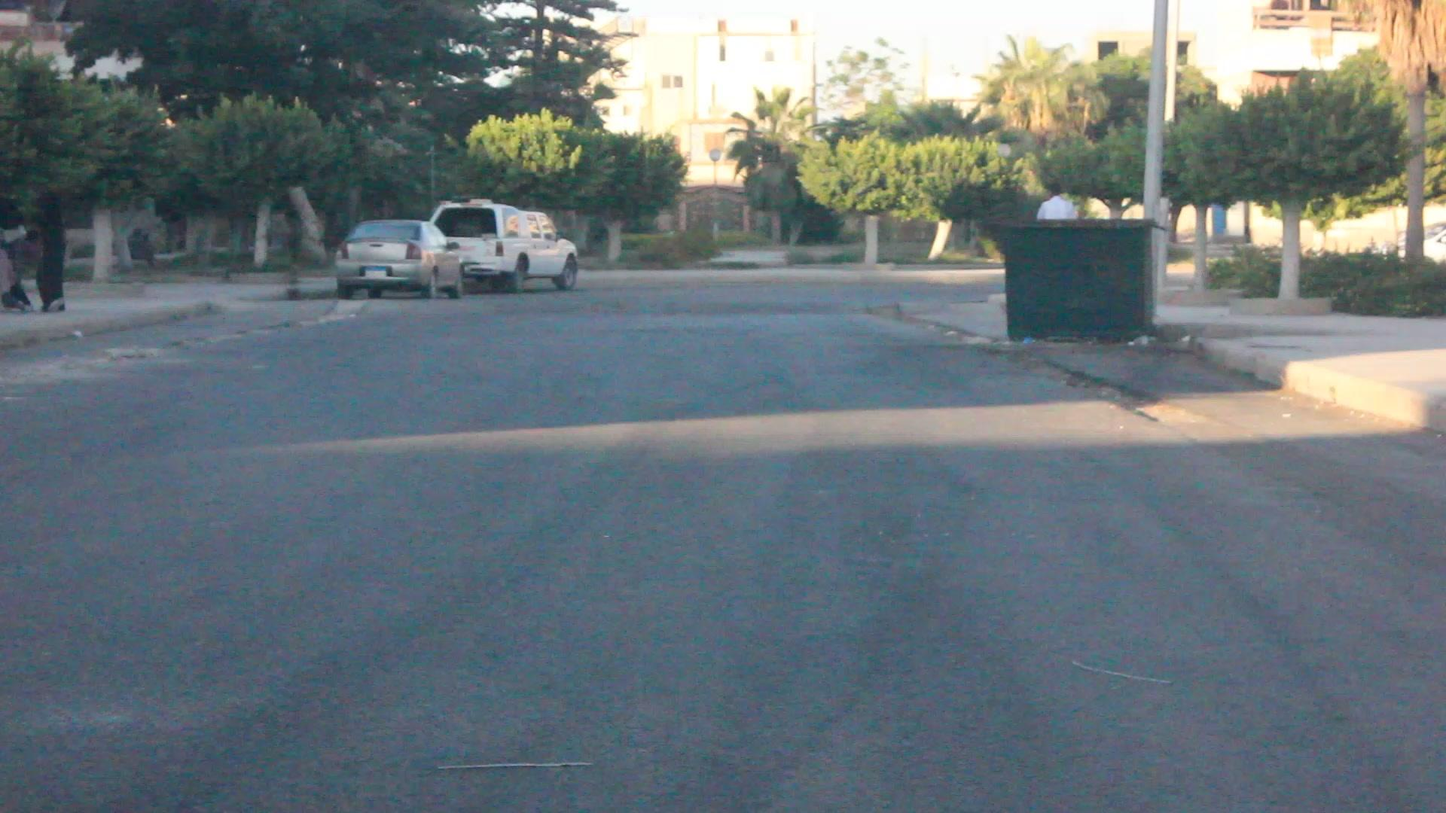Bump: (346, 282, 909, 331)
